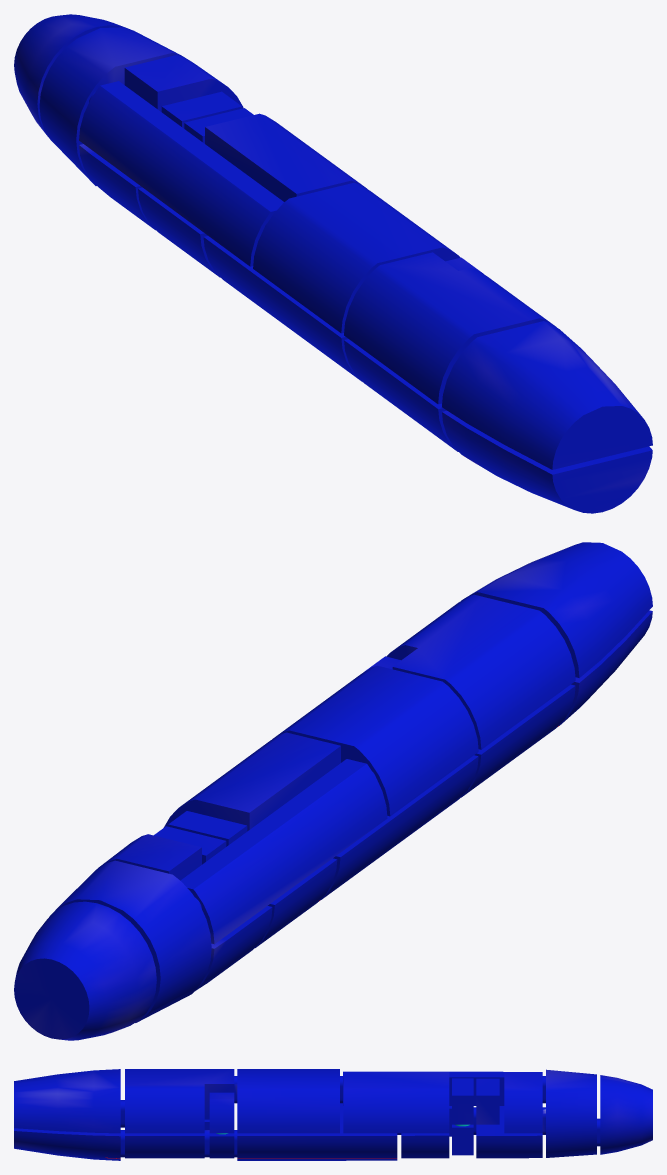
Rendered from Submarine_Individual.fbx.
3 views of the same model, one above another, from view 1: azimuth 30°, elevation 25°; view 2: azimuth 150°, elevation 25°; view 3: azimuth 270°, elevation 25° (orthographic). The views are drawn at different scales.
Parts seen in each view (by area): view 1: Storage, MessHall, Hall (top), Bridge, EngineRoom, MissalBay, SleepingQuarters, ReactorRoom, Sonar, Airlock, LifeSuport, hall (front-bottom (+3 smaller); view 2: MessHall, Hall (top), Bridge, Sonar, Storage, MissalBay, SleepingQuarters, ReactorRoom, LifeSuport, Airlock, hall (front-bottom, TorpedoBay (+3 smaller); view 3: Bridge, SleepingQuarters, Storage, MessHall, ReactorRoom, MissalBay, Sonar, EngineRoom, Airlock, TorpedoBay, hall (aft-bottop), MechanickRoom (+7 smaller).
Boxes of the visible parts, x1=… form: Storage: x1=442, y1=321, x2=652, y2=469; MessHall: x1=344, y1=252, x2=555, y2=404; Hall (top): x1=79, y1=81, x2=284, y2=266; Bridge: x1=253, y1=182, x2=460, y2=333; EngineRoom: x1=442, y1=410, x2=652, y2=513; MissalBay: x1=39, y1=27, x2=184, y2=185; SleepingQuarters: x1=205, y1=113, x2=366, y2=201; ReactorRoom: x1=203, y1=236, x2=362, y2=381; Sonar: x1=14, y1=14, x2=129, y2=137; Airlock: x1=124, y1=55, x2=243, y2=111; LifeSuport: x1=344, y1=339, x2=458, y2=451; hall (front-bottom: x1=138, y1=187, x2=220, y2=277; MessHall: x1=386, y1=594, x2=575, y2=749; Hall (top): x1=180, y1=759, x2=387, y2=944; Bridge: x1=273, y1=665, x2=478, y2=816; Sonar: x1=14, y1=901, x2=156, y2=1040; Storage: x1=461, y1=542, x2=652, y2=677; MissalBay: x1=49, y1=860, x2=211, y2=1022; SleepingQuarters: x1=163, y1=732, x2=340, y2=831; ReactorRoom: x1=318, y1=755, x2=478, y2=901; LifeSuport: x1=461, y1=684, x2=575, y2=797; Airlock: x1=98, y1=834, x2=201, y2=880; hall (front-bottom: x1=255, y1=858, x2=337, y2=947; TorpedoBay: x1=194, y1=906, x2=272, y2=991; Bridge: x1=237, y1=1069, x2=342, y2=1133; SleepingQuarters: x1=343, y1=1072, x2=449, y2=1133; Storage: x1=14, y1=1069, x2=124, y2=1133; MessHall: x1=125, y1=1069, x2=237, y2=1133; ReactorRoom: x1=237, y1=1103, x2=401, y2=1160; MissalBay: x1=546, y1=1069, x2=600, y2=1157; Sonar: x1=600, y1=1075, x2=652, y2=1154; EngineRoom: x1=14, y1=1128, x2=124, y2=1160; Airlock: x1=504, y1=1072, x2=542, y2=1133; TorpedoBay: x1=476, y1=1106, x2=545, y2=1158; hall (aft-bottop): x1=125, y1=1133, x2=204, y2=1158; MechanickRoom: x1=401, y1=1133, x2=449, y2=1158.
Size of the model in its own units: 854 by 759 by 5916.
